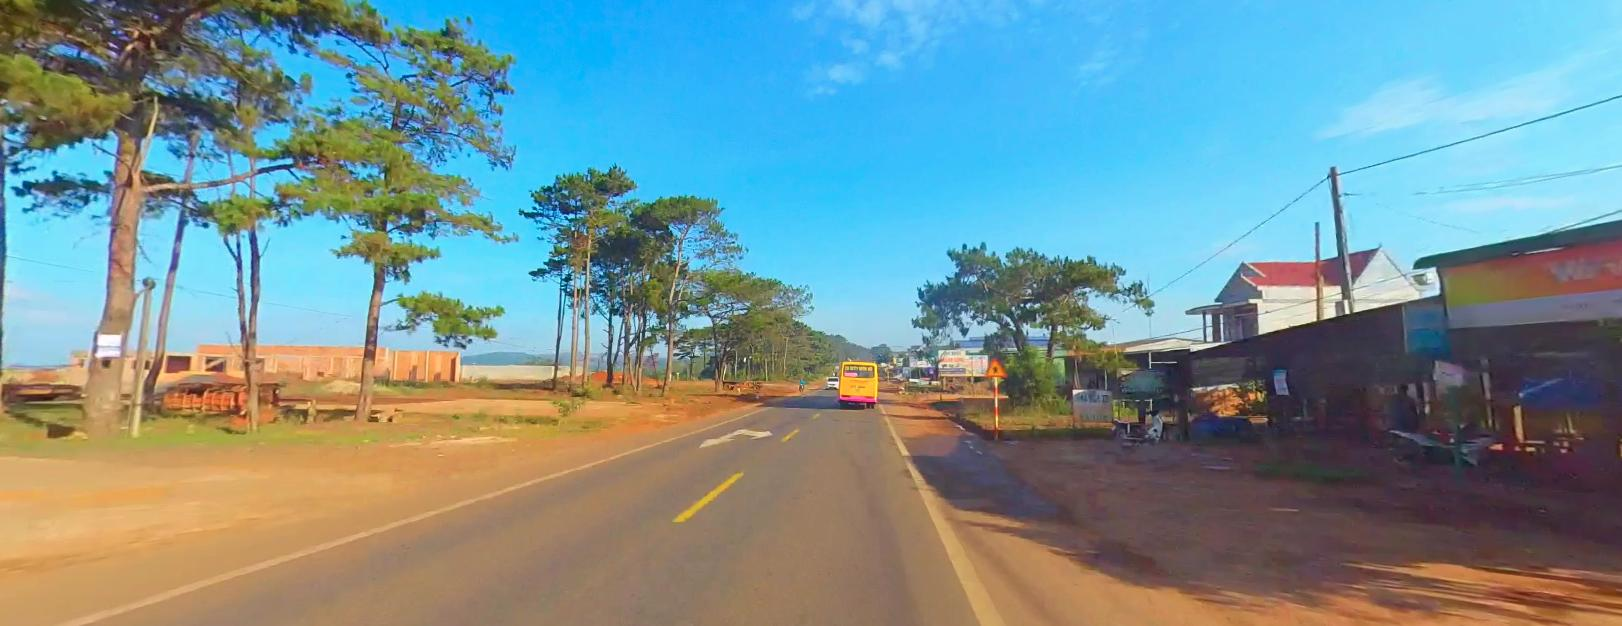Nguy hiem: (983, 354, 1008, 375)
